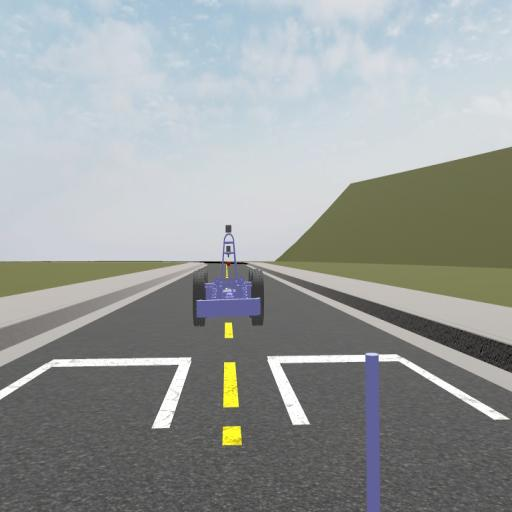ERP-42: (192, 225, 264, 325)
